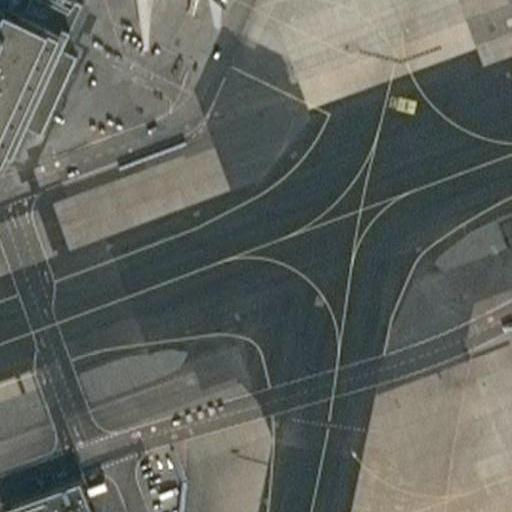Aircraft: (73, 0, 244, 53)
